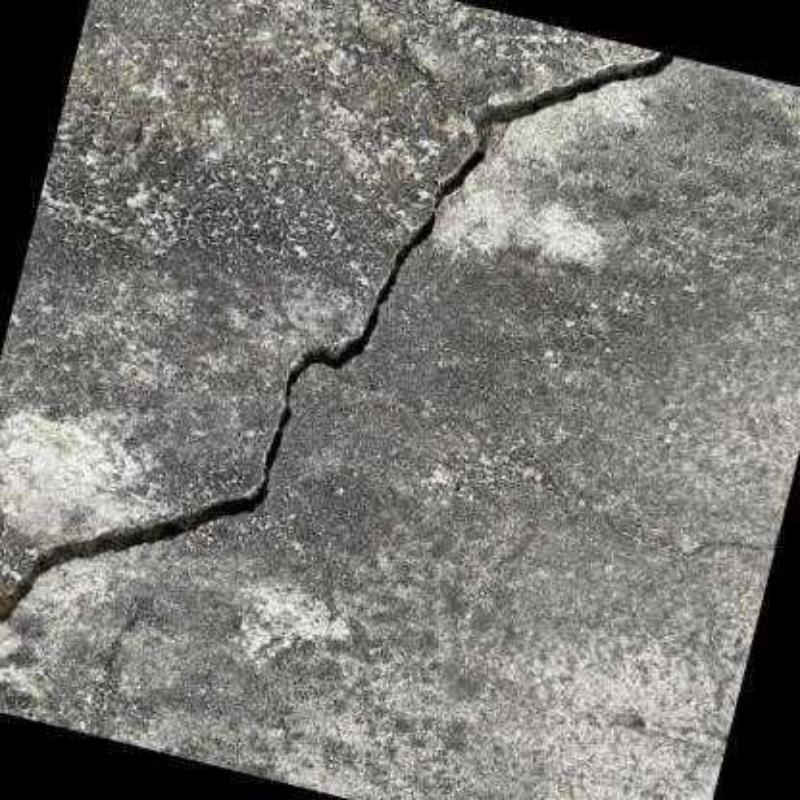crack: (1, 53, 675, 623)
